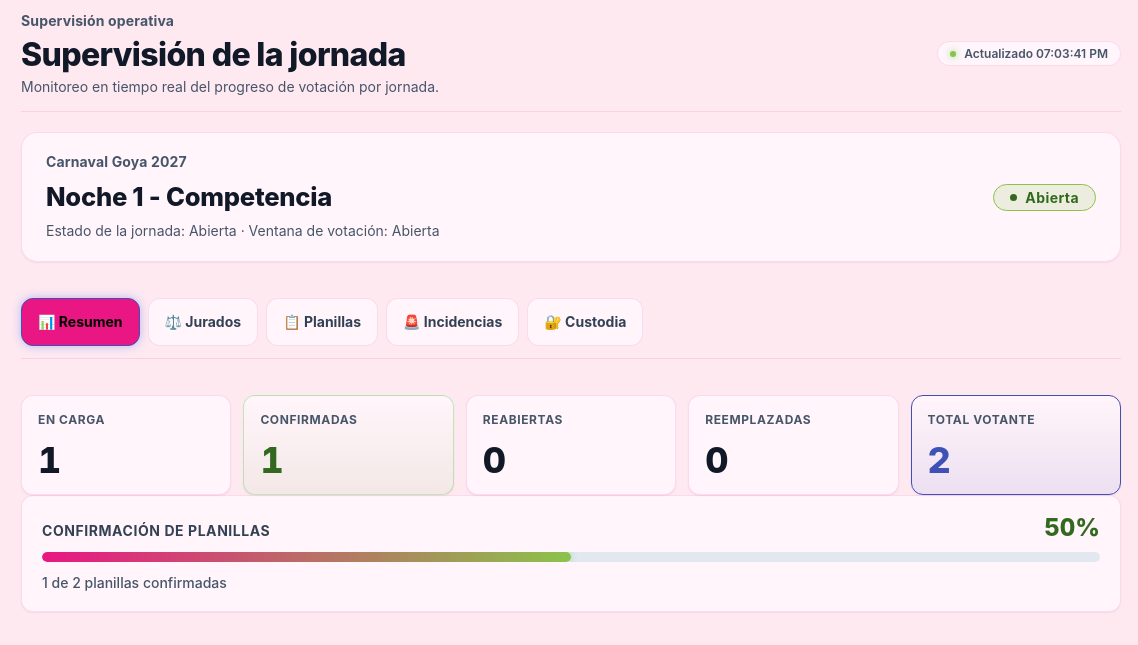
Test case: VeedorMonitorModule (Capítulo V - Veeduría Integral) › muestra la pestaña Custodia con sello SHA-256 e integridad verificada
The image size is (1138, 645).
Expected: the heading "Noche 1 - Competencia" is shown, left=46, top=181, right=332, bottom=212
Click the tab "🔐 Custodia" at (585,322), box left=527, top=298, right=643, bottom=346
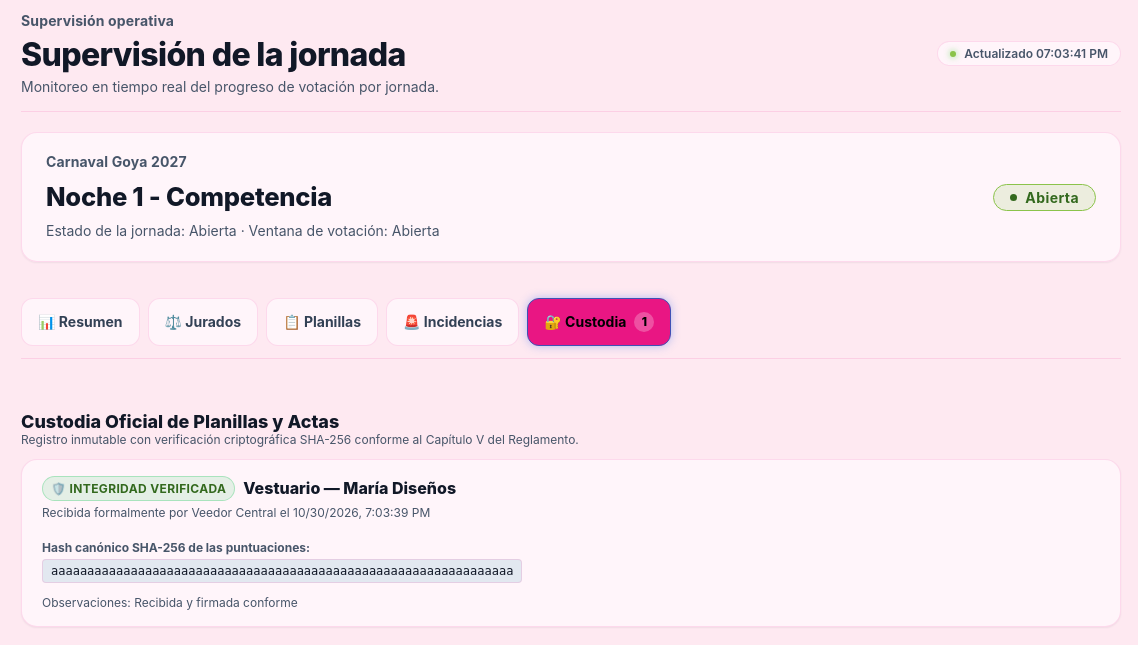
Now the text "🛡️ INTEGRIDAD VERIFICADA" is shown, box left=42, top=476, right=235, bottom=501
Now the heading "Vestuario — María Diseños" is shown, box left=243, top=478, right=456, bottom=498
Now the text "Observaciones: Recibida y firmada conforme" is shown, box left=42, top=595, right=298, bottom=610
